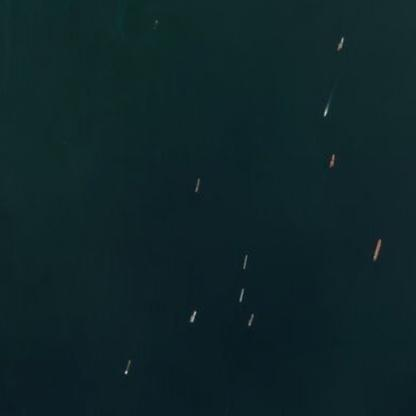ship: (370, 235, 382, 265), (120, 356, 135, 378), (239, 250, 250, 272), (235, 283, 246, 304), (190, 174, 201, 194), (325, 149, 335, 170), (185, 306, 198, 322), (245, 310, 253, 328), (319, 103, 328, 118), (329, 0, 342, 10), (149, 17, 159, 29)
